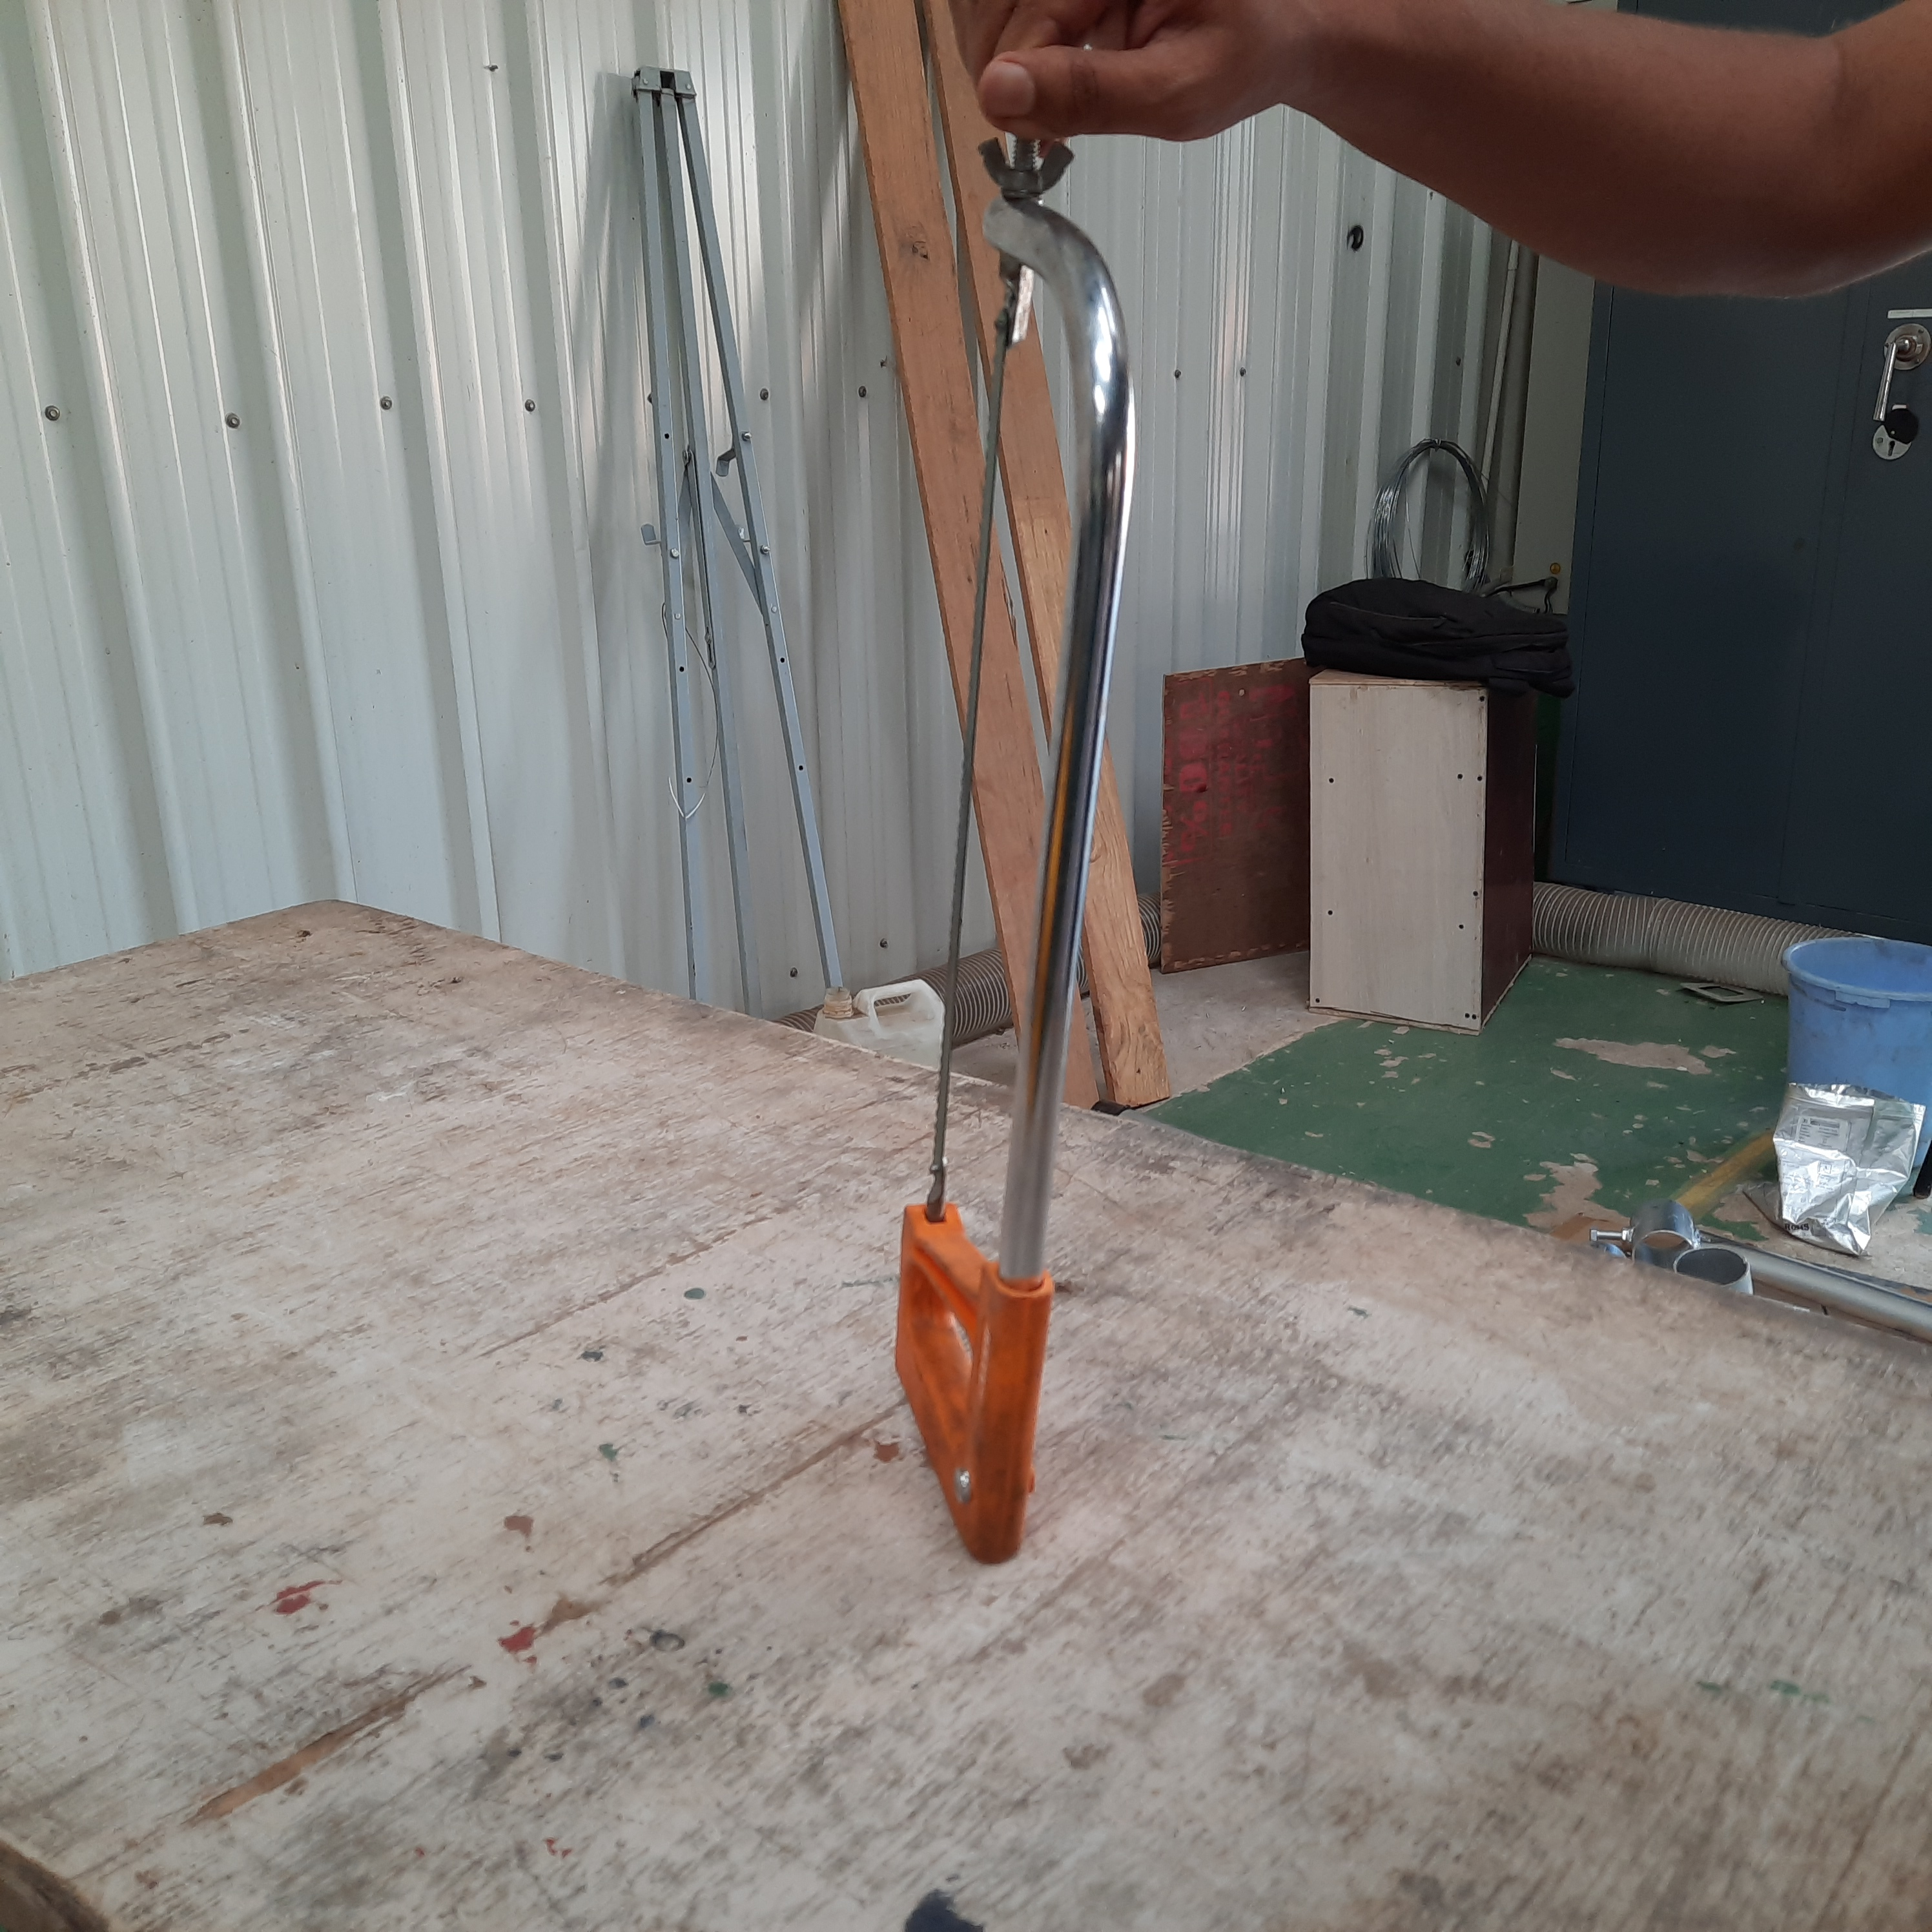Hexaframe: (925, 147, 1145, 1573)
